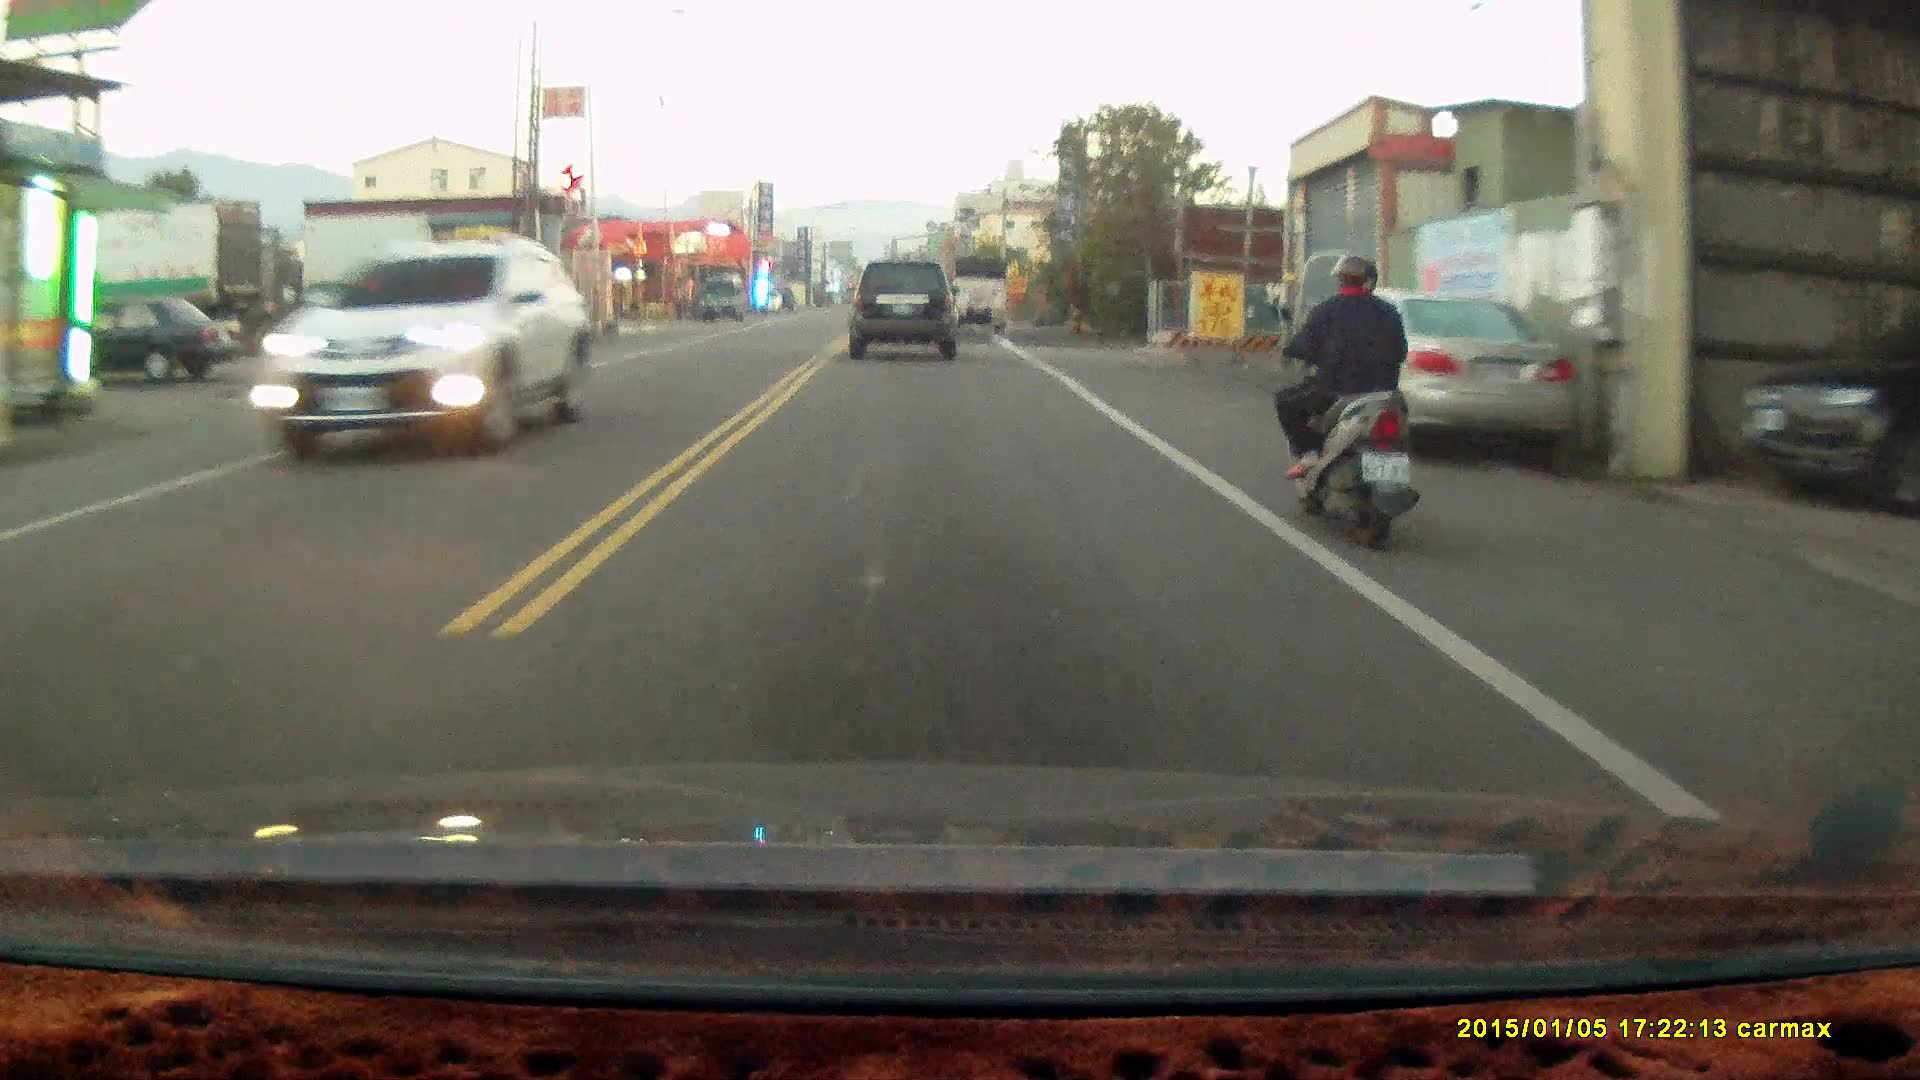rider: (1270, 246, 1418, 548)
vehicle: (251, 241, 590, 458), (1285, 288, 1570, 457), (1736, 293, 1920, 511), (76, 293, 245, 386), (849, 256, 962, 363), (949, 254, 1012, 335)
